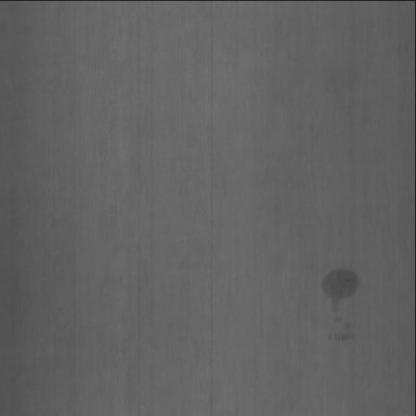oil_spot: (319, 257, 362, 344)
